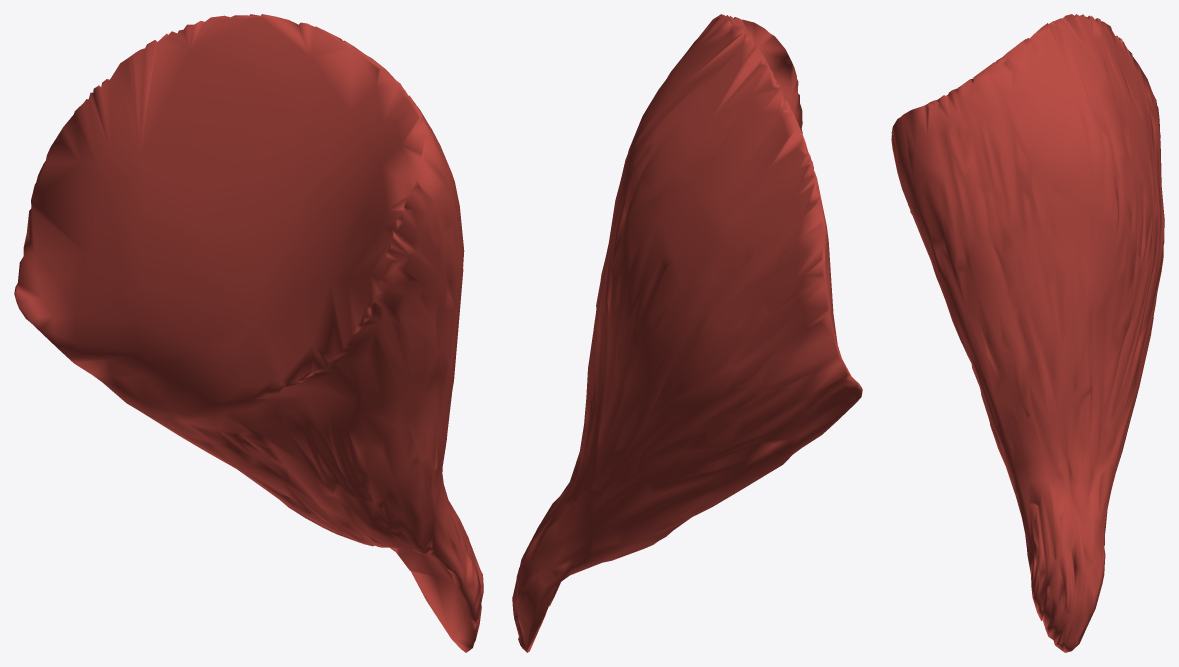
File: musculos-gluteus-minimus-muscle-l.glb
The picture shows the model from 3 angles, left to right: view 1: azimuth 30°, elevation 25°; view 2: azimuth 150°, elevation 25°; view 3: azimuth 270°, elevation 25°; orthographic projection. The views are drawn at different scales.
Visible parts, largest first — view 1: Gluteus minimus muscle.l; view 2: Gluteus minimus muscle.l; view 3: Gluteus minimus muscle.l.
Part boxes in pixels (x1,y1,x2,y2): Gluteus minimus muscle.l: (14, 14, 483, 652); Gluteus minimus muscle.l: (512, 14, 862, 652); Gluteus minimus muscle.l: (891, 14, 1164, 652).
Bounding box in the file's own units: 0.0828 × 0.1345 × 0.0608.
